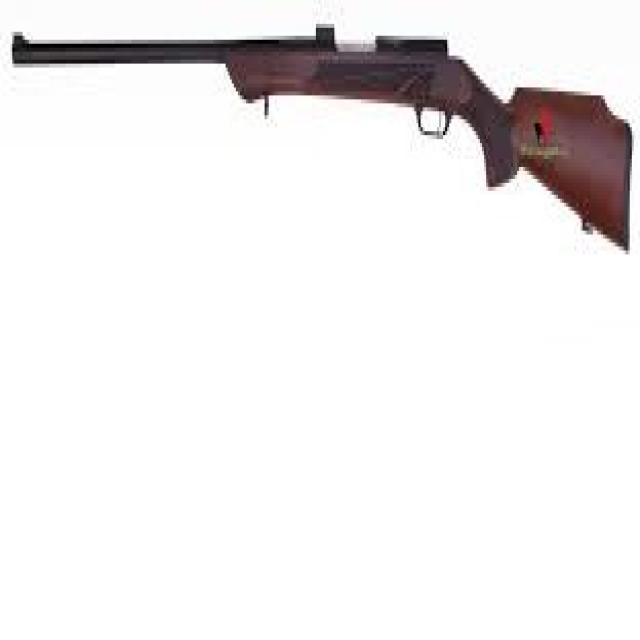rifle: (5, 12, 638, 274)
